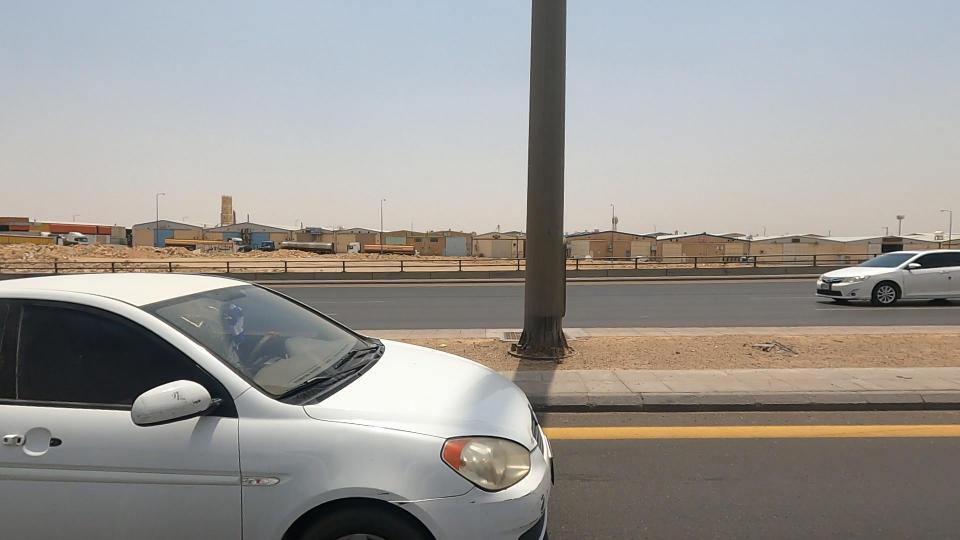CLUTTER_SIDEWALK: (518, 296, 960, 402)
GARBAGE: (713, 324, 836, 368)
